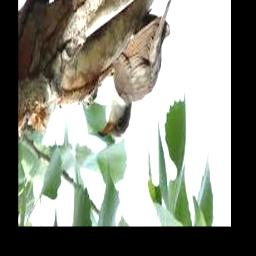Cuckoo: (98, 0, 175, 139)
